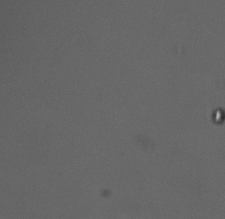Living Cell: (213, 108, 223, 124)
